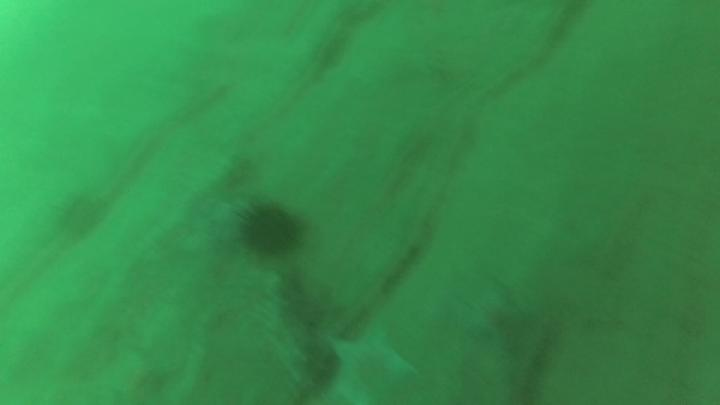echinus: (233, 196, 311, 258), (45, 189, 113, 242)
holothurian: (250, 267, 334, 398)
starfish: (325, 324, 422, 405), (456, 276, 535, 360), (191, 189, 253, 251)
